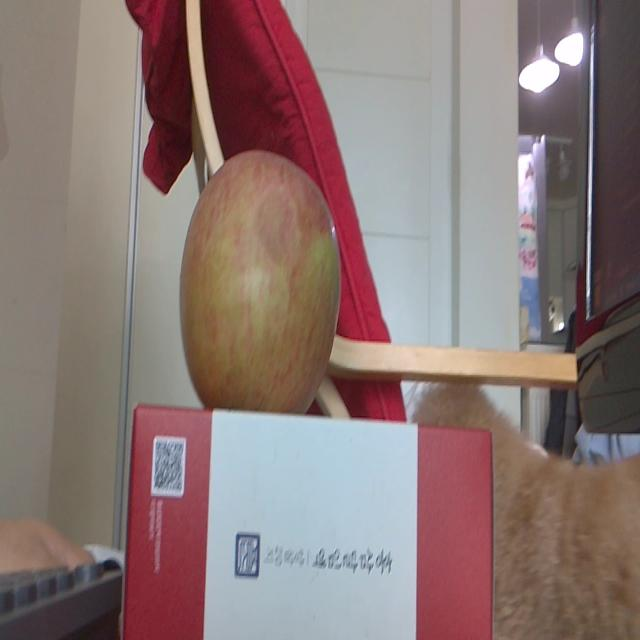apple: (179, 149, 342, 411)
